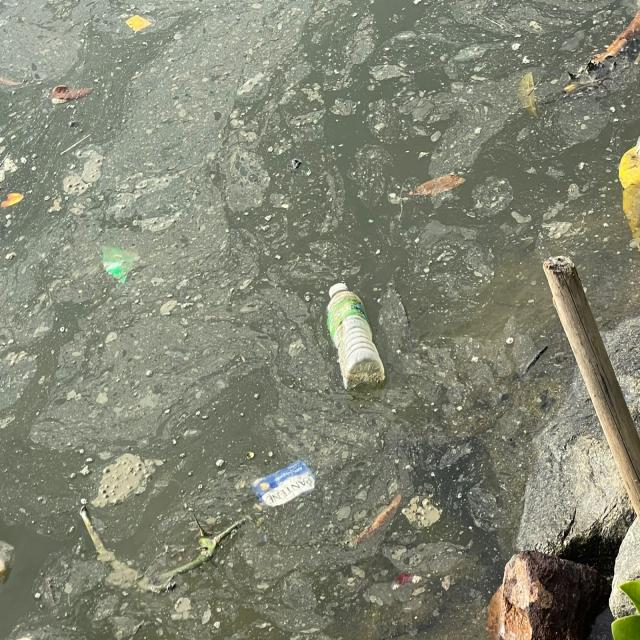Botol Plastik: (319, 279, 393, 406)
